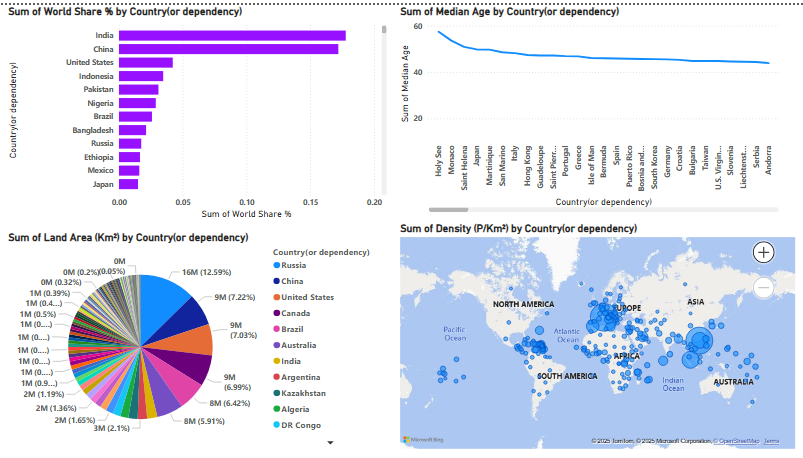

What the dashboard file says about the page in this screenshot:
{"tool":"powerbi","page":{"name":"Page 1","canvas":[1280,720],"ordinal":0},"visuals":[{"type":"barChart","fields":{"Category":["Sheet1.Country(or dependency)"],"Y":["Sum(Sheet1.World Share %)"]},"box":[10.1,0,611.4,344.4],"z":0},{"type":"pieChart","fields":{"Category":["Sheet1.Country(or dependency)"],"Y":["Sum(Sheet1.Land Area (Km²))"]},"box":[10.1,359.5,611.4,349.4],"z":1000},{"type":"lineChart","fields":{"Category":["Sheet1.Country(or dependency)"],"Y":["Sum(Sheet1.Median Age)"]},"box":[631,0,611,334],"z":2000},{"type":"map","fields":{"Category":["Sheet1.Country(or dependency)"],"Size":["Sum(Sheet1.Density (P/Km²))"]},"box":[631.6,344.4,636.6,364.5],"z":3000}]}

Visuals, with their boxes in screenshot pixels (x1, y1, x2, y2), scaled from the page's 1280x720 canvas onto the 803x458 screenshot:
barChart - Sheet1.Country(or dependency) x Sum(Sheet1.World Share %): bbox=(6, 0, 390, 219)
pieChart - Sheet1.Country(or dependency) x Sum(Sheet1.Land Area (Km²)): bbox=(6, 229, 390, 451)
lineChart - Sheet1.Country(or dependency) x Sum(Sheet1.Median Age): bbox=(396, 0, 779, 212)
map - Sheet1.Country(or dependency) x Sum(Sheet1.Density (P/Km²)): bbox=(396, 219, 796, 451)
